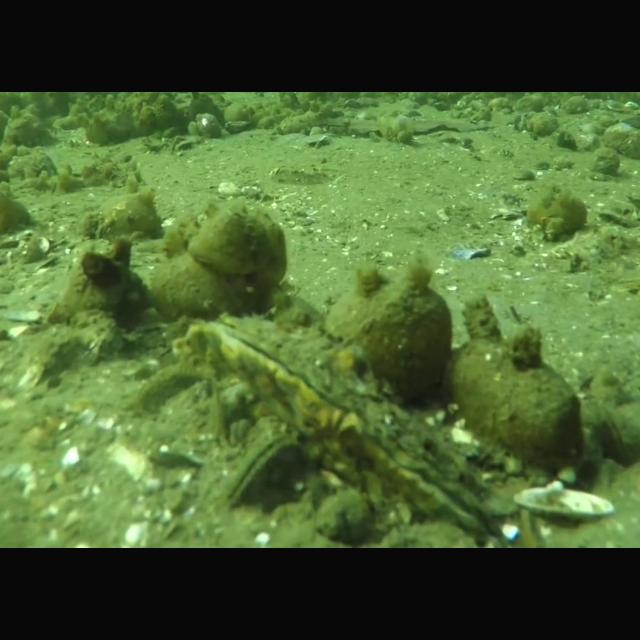Oyster-Closed: (572, 400, 640, 472)
Oyster-Open: (190, 314, 498, 538), (223, 430, 313, 518), (514, 484, 616, 526)
